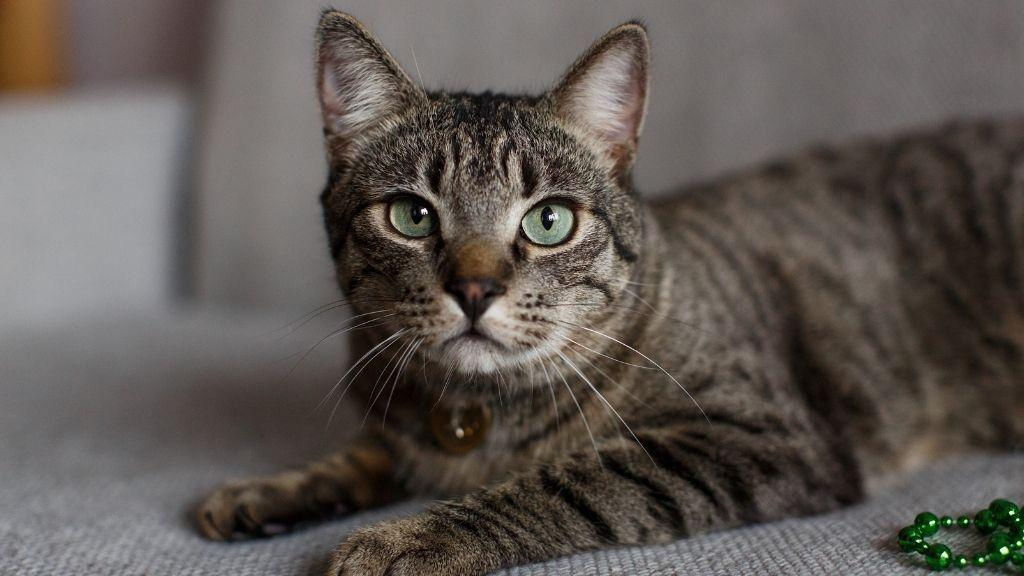Cat: (298, 10, 657, 394)
